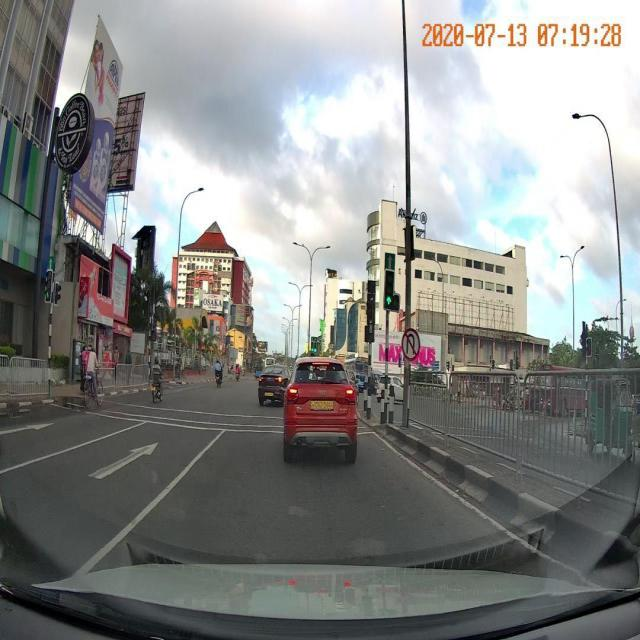Liniya 1: (371, 432, 590, 585), (70, 429, 230, 577), (0, 421, 150, 475)
Liniya 2: (52, 403, 283, 435), (66, 402, 282, 429), (103, 398, 283, 420)
Strelka vpered: (83, 440, 161, 482), (1, 423, 57, 436)
